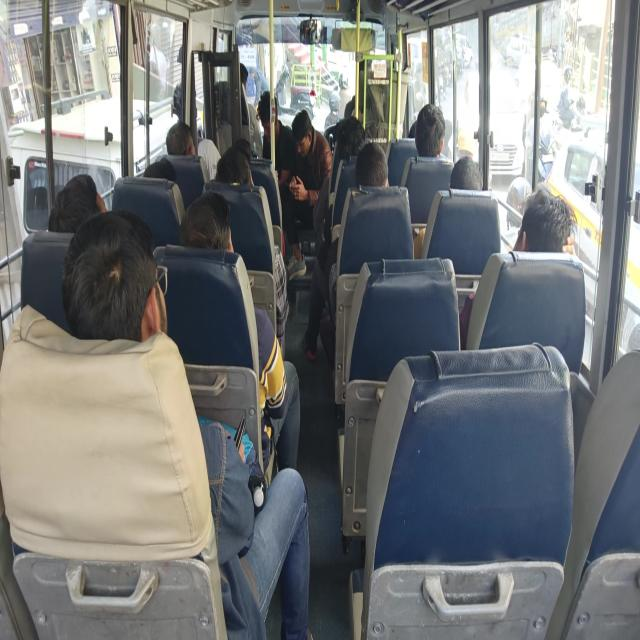person: (67, 222, 165, 344), (289, 106, 333, 272), (518, 187, 576, 254), (352, 134, 398, 211), (180, 190, 232, 256), (258, 85, 288, 182), (215, 140, 262, 194), (55, 183, 100, 237), (412, 102, 449, 166), (109, 208, 154, 252), (328, 115, 364, 166), (450, 157, 483, 193), (165, 120, 195, 158), (295, 109, 311, 161), (141, 159, 177, 182), (48, 203, 62, 233), (240, 62, 248, 92)
